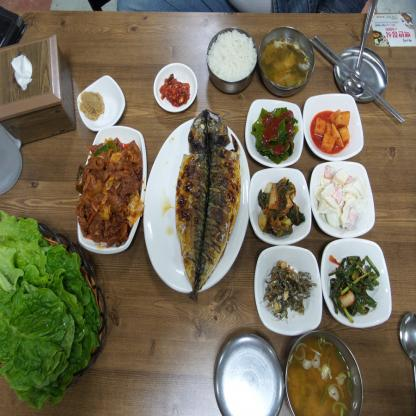Peixe: (165, 104, 243, 299)
